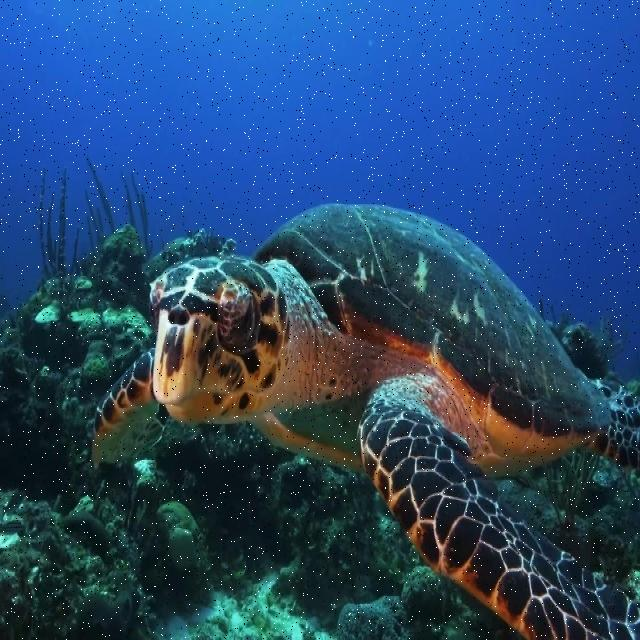aquatic plants: (37, 152, 152, 288)
fish: (91, 201, 639, 639)
